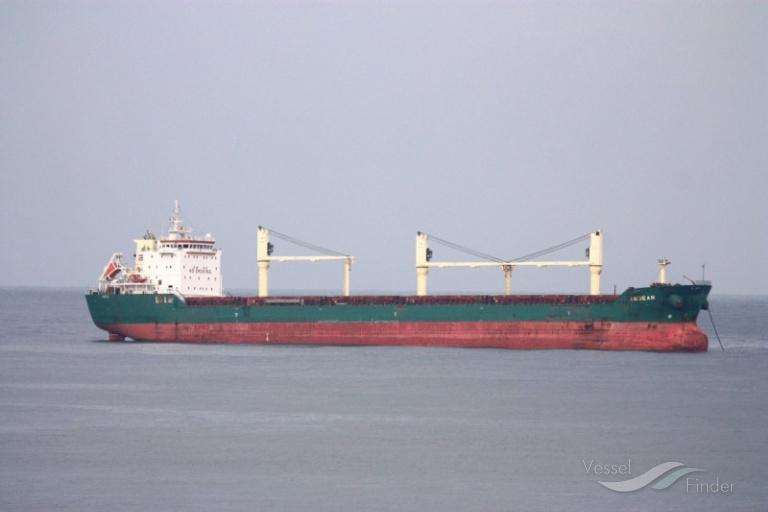OCR: (628, 290, 660, 306)
